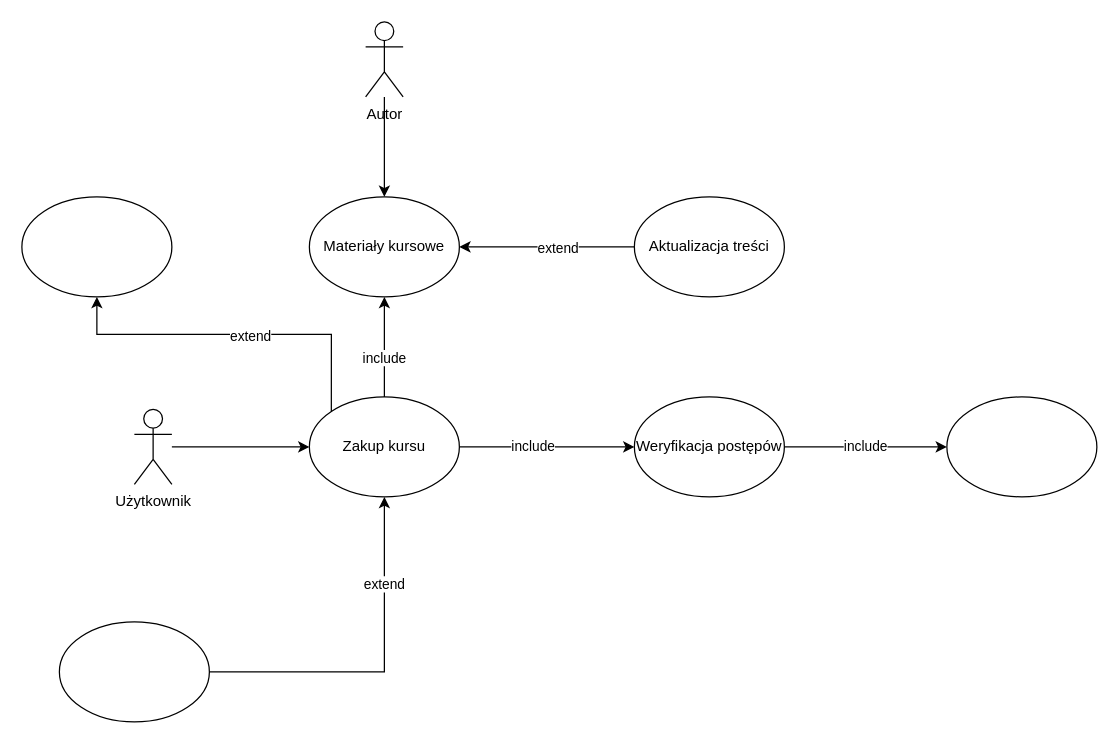
The diagram is 1119 pixels wide and 744 high, and some of its shapes have lost their labels. The shapes that lost their labels are listed below. From the top down, each one's centre as x and y in pixels, then its label:
At pixel 96 246: "Społeczność (inni kursanci, kontakt z autorem)".
At pixel 1021 446: "Certyfikacja".
At pixel 133 671: "Zakup pakietu kursów o danej tematyce".
